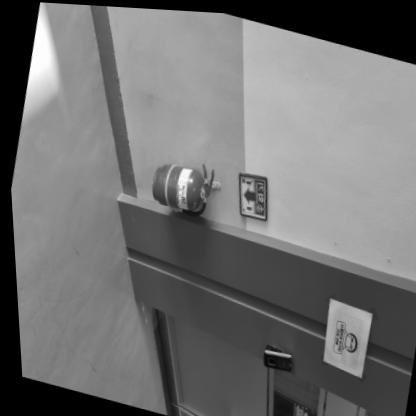FE: (143, 146, 217, 217)
